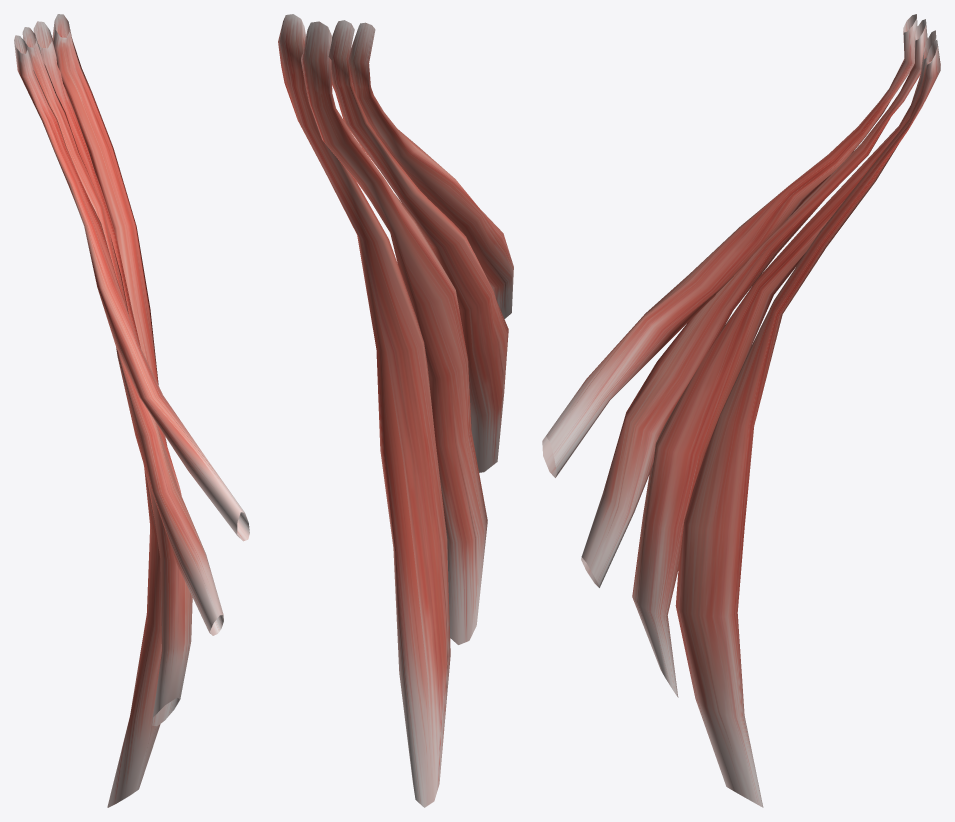
The model's file is Semispinalis_Cervicis_Muscle_Right.obj.
3 views of the same model, side by side, from view 1: azimuth 30°, elevation 25°; view 2: azimuth 150°, elevation 25°; view 3: azimuth 270°, elevation 25° (orthographic). The views are drawn at different scales.
Parts seen in each view (by area): view 1: Semispinalis_Cervicis_Muscle_Right_01:Semispinalis_Cervicis_Musc, Semispinalis_Cervicis_Muscle_Right_04:Semispinalis_Cervicis_Musc, Semispinalis_Cervicis_Muscle_Right_03:Semispinalis_Cervicis_Musc, Semispinalis_Cervicis_Muscle_Right_02:Semispinalis_Cervicis_Musc; view 2: Semispinalis_Cervicis_Muscle_Right_01:Semispinalis_Cervicis_Musc, Semispinalis_Cervicis_Muscle_Right_02:Semispinalis_Cervicis_Musc, Semispinalis_Cervicis_Muscle_Right_03:Semispinalis_Cervicis_Musc, Semispinalis_Cervicis_Muscle_Right_04:Semispinalis_Cervicis_Musc; view 3: Semispinalis_Cervicis_Muscle_Right_01:Semispinalis_Cervicis_Musc, Semispinalis_Cervicis_Muscle_Right_02:Semispinalis_Cervicis_Musc, Semispinalis_Cervicis_Muscle_Right_03:Semispinalis_Cervicis_Musc, Semispinalis_Cervicis_Muscle_Right_04:Semispinalis_Cervicis_Musc.
Boxes of the visible parts, x1,y1,x2,y2 form: Semispinalis_Cervicis_Muscle_Right_01:Semispinalis_Cervicis_Musc: (52, 14, 166, 807); Semispinalis_Cervicis_Muscle_Right_04:Semispinalis_Cervicis_Musc: (14, 35, 249, 541); Semispinalis_Cervicis_Muscle_Right_03:Semispinalis_Cervicis_Musc: (22, 27, 223, 635); Semispinalis_Cervicis_Muscle_Right_02:Semispinalis_Cervicis_Musc: (33, 21, 192, 726); Semispinalis_Cervicis_Muscle_Right_01:Semispinalis_Cervicis_Musc: (278, 14, 450, 807); Semispinalis_Cervicis_Muscle_Right_02:Semispinalis_Cervicis_Musc: (301, 21, 487, 644); Semispinalis_Cervicis_Muscle_Right_03:Semispinalis_Cervicis_Musc: (328, 20, 508, 472); Semispinalis_Cervicis_Muscle_Right_04:Semispinalis_Cervicis_Musc: (348, 22, 513, 318); Semispinalis_Cervicis_Muscle_Right_01:Semispinalis_Cervicis_Musc: (675, 40, 940, 807); Semispinalis_Cervicis_Muscle_Right_02:Semispinalis_Cervicis_Musc: (632, 30, 936, 697); Semispinalis_Cervicis_Muscle_Right_03:Semispinalis_Cervicis_Musc: (581, 19, 927, 587); Semispinalis_Cervicis_Muscle_Right_04:Semispinalis_Cervicis_Musc: (542, 14, 917, 477).
Size of the model in its own units: 0.1384 by 1.18 by 0.5416.
